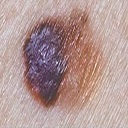Melanoma: (26, 19, 85, 105)
